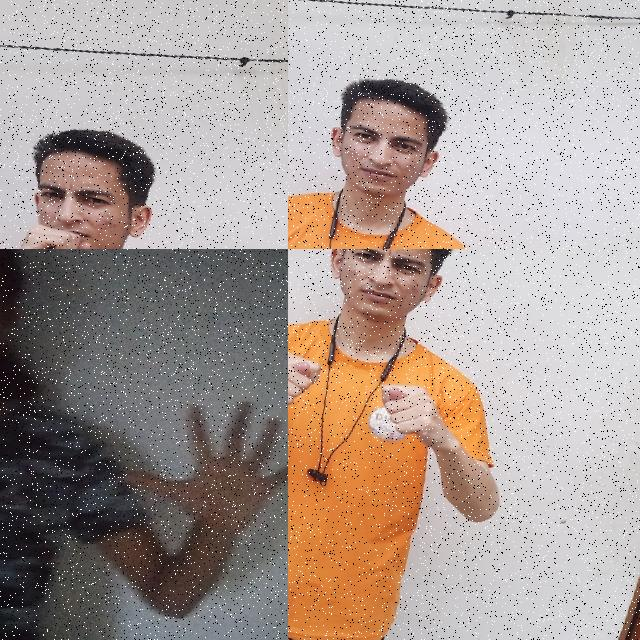Dulya: (356, 365, 468, 464), (288, 333, 331, 427)
Fist Mouth: (0, 107, 178, 249)
Moutza: (97, 367, 288, 588)
